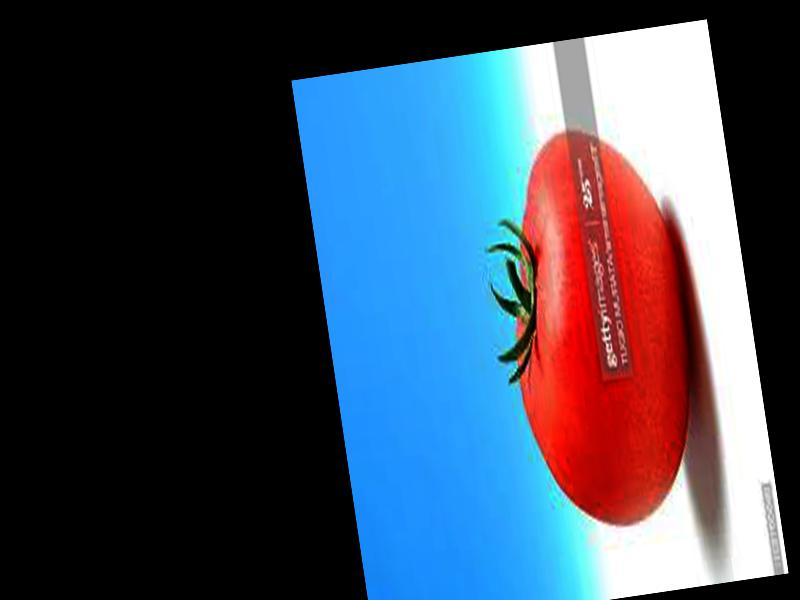Tomato: (485, 116, 711, 534)
